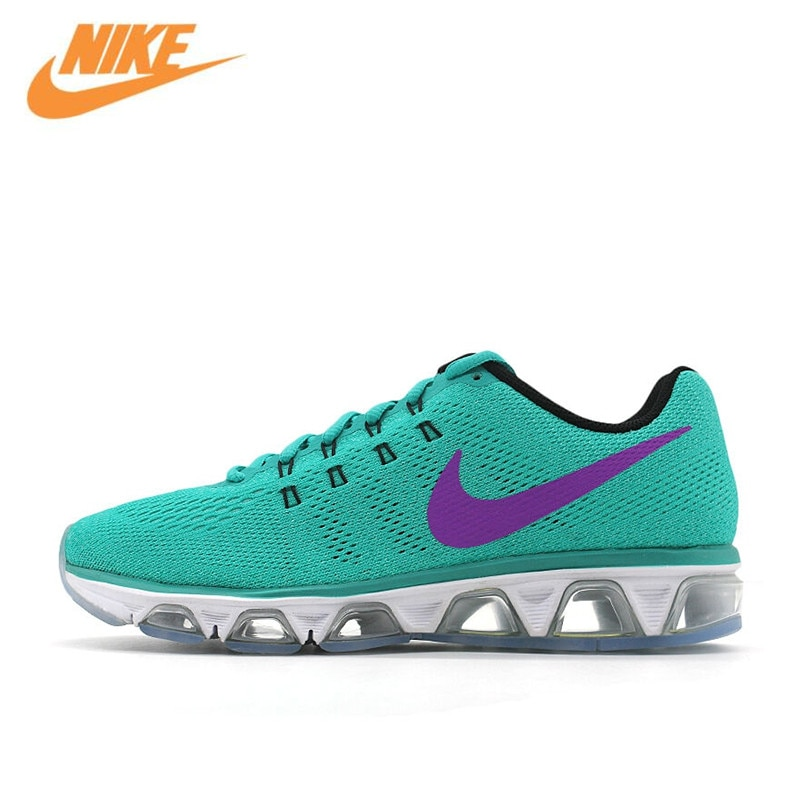nike: (418, 421, 700, 553)
